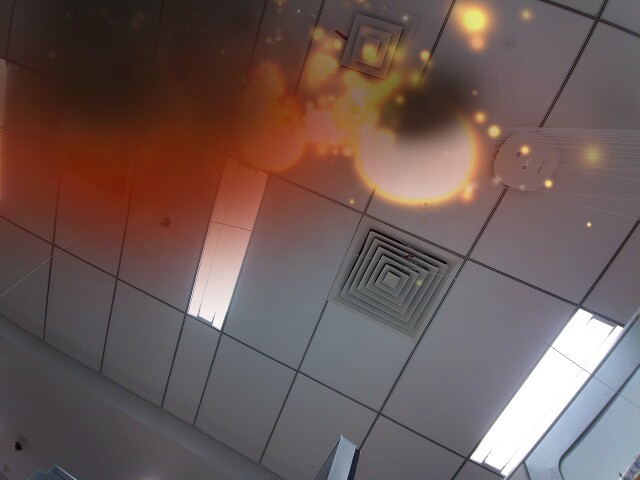fire: (364, 98, 482, 211), (244, 111, 307, 176)
